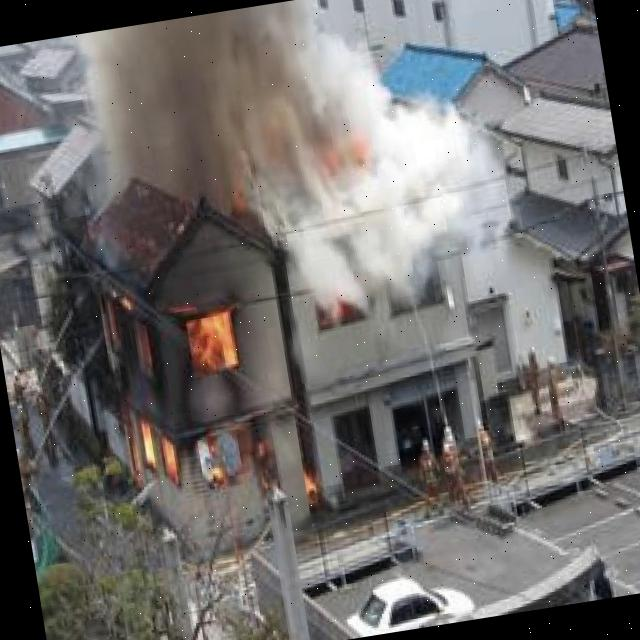fire: (81, 242, 333, 550)
